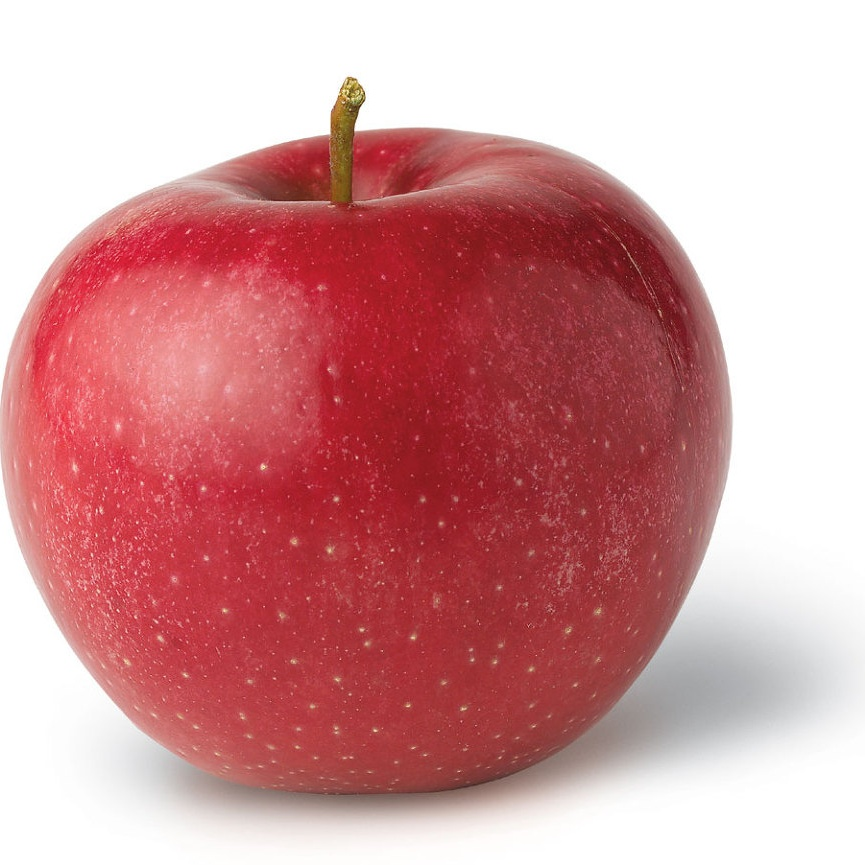apple: (1, 84, 731, 793)
